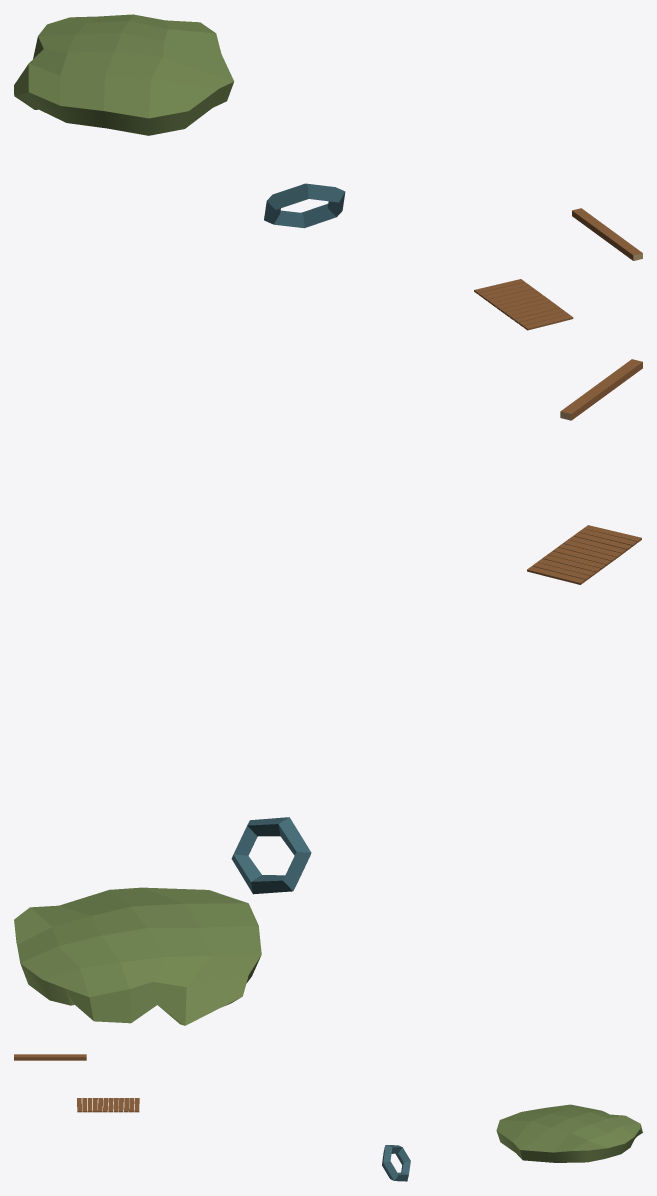
3 views of the same model, one above another, from view 1: azimuth 30°, elevation 25°; view 2: azimuth 150°, elevation 25°; view 3: azimuth 270°, elevation 25° (orthographic). The views are drawn at different scales.
Visible parts, largest first — view 1: Plane077_green3_0, Plane351_brown_0, Torus025_metal_0, Box15507_brown_0; view 2: Plane077_green3_0, Plane351_brown_0, Torus025_metal_0, Box15507_brown_0; view 3: Plane077_green3_0, Plane351_brown_0, Torus025_metal_0, Box15507_brown_0.
Part boxes in pixels (x1=…): Plane077_green3_0: x1=14, y1=14, x2=234, y2=135; Plane351_brown_0: x1=474, y1=279, x2=573, y2=330; Torus025_metal_0: x1=264, y1=183, x2=345, y2=228; Box15507_brown_0: x1=572, y1=208, x2=642, y2=260; Plane077_green3_0: x1=14, y1=887, x2=261, y2=1025; Plane351_brown_0: x1=527, y1=525, x2=641, y2=584; Torus025_metal_0: x1=231, y1=817, x2=311, y2=894; Box15507_brown_0: x1=560, y1=359, x2=642, y2=420; Plane077_green3_0: x1=496, y1=1104, x2=642, y2=1162; Plane351_brown_0: x1=77, y1=1098, x2=139, y2=1112; Torus025_metal_0: x1=382, y1=1145, x2=410, y2=1181; Box15507_brown_0: x1=14, y1=1054, x2=86, y2=1060.
Size of the model in its own units: 967 by 1030 by 4639.
